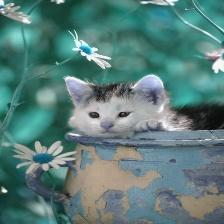kedo: (65, 74, 224, 138)
